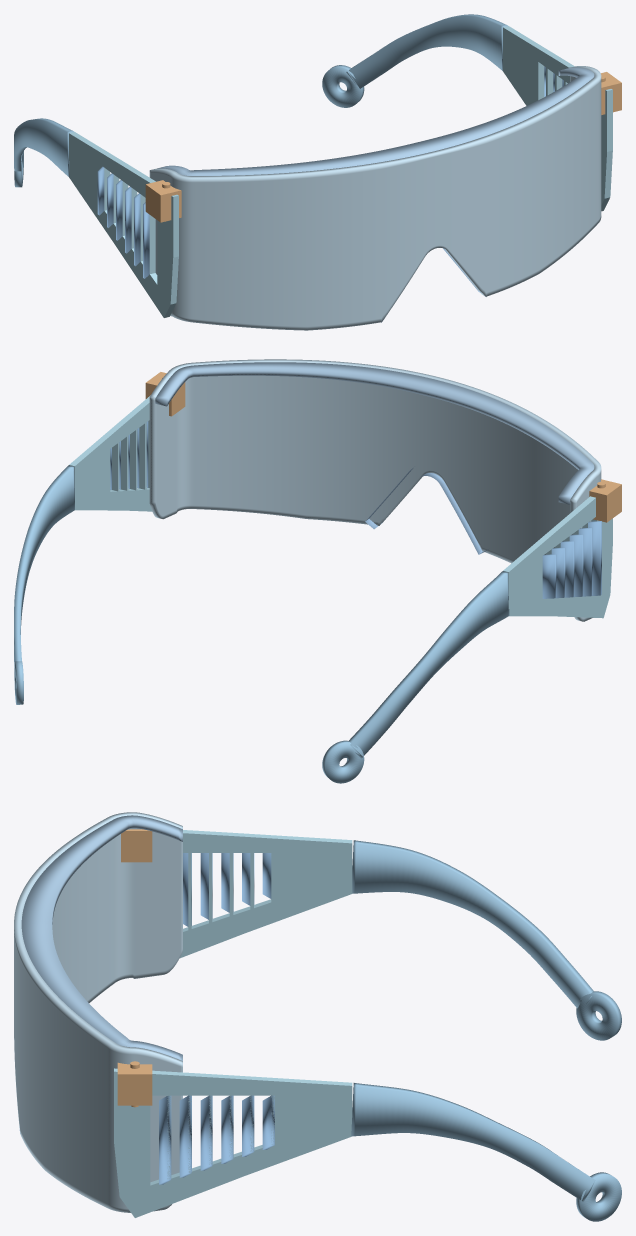
Rendered from occhiali.glb.
3 renders of one model, top to bottom at view 1: azimuth 30°, elevation 25°; view 2: azimuth 150°, elevation 25°; view 3: azimuth 270°, elevation 25°, orthographic. The views are drawn at different scales.
Visible parts, largest first — view 1: Lente, Riparo_laterale_SX, Bordino_superiore, Asta_DX, Riparo_laterale_DX, Asta_SX, Terminale_asta_DX, Cerniera_SX, Cerniera_DX, Aletta_SX_2, Aletta_SX_1, Aletta_SX_3; view 2: Lente, Bordino_superiore, Riparo_laterale_DX, Riparo_laterale_SX, Asta_SX, Asta_DX, Terminale_asta_SX, Cerniera_SX, Bordo_incavo_nasale, Aletta_SX_2, Aletta_SX_1, Aletta_SX_6 (+3 smaller); view 3: Lente, Riparo_laterale_DX, Riparo_laterale_SX, Asta_SX, Asta_DX, Bordino_superiore, Terminale_asta_SX, Terminale_asta_DX, Cerniera_DX, Aletta_DX_1, Cerniera_SX, Aletta_DX_2 (+6 smaller).
Part boxes in pixels (box(x1,y1,x2,y2)): Lente: box(149, 66, 601, 330); Riparo_laterale_SX: box(69, 132, 178, 317); Bordino_superiore: box(157, 67, 594, 175); Asta_DX: box(346, 14, 507, 88); Riparo_laterale_DX: box(503, 26, 612, 211); Asta_SX: box(14, 118, 74, 177); Terminale_asta_DX: box(322, 65, 364, 107); Cerniera_SX: box(145, 180, 181, 222); Cerniera_DX: box(601, 72, 621, 114); Aletta_SX_2: box(134, 193, 140, 266); Aletta_SX_1: box(143, 202, 149, 278); Aletta_SX_3: box(125, 186, 131, 253); Lente: box(149, 359, 601, 621); Bordino_superiore: box(155, 362, 594, 504); Riparo_laterale_DX: box(69, 395, 152, 511); Riparo_laterale_SX: box(503, 496, 612, 618); Asta_SX: box(349, 571, 509, 758); Asta_DX: box(14, 465, 74, 671); Terminale_asta_SX: box(322, 740, 364, 783); Cerniera_SX: box(589, 479, 621, 522); Bordo_incavo_nasale: box(365, 467, 488, 554); Aletta_SX_2: box(578, 527, 592, 596); Aletta_SX_1: box(588, 521, 601, 595); Aletta_SX_6: box(542, 554, 556, 598); Lente: box(14, 812, 182, 1212); Riparo_laterale_DX: box(114, 1068, 352, 1217); Riparo_laterale_SX: box(179, 830, 352, 958); Asta_SX: box(352, 840, 593, 1008); Asta_DX: box(351, 1083, 595, 1201); Bordino_superiore: box(21, 815, 182, 1060); Terminale_asta_SX: box(576, 991, 621, 1040); Terminale_asta_DX: box(576, 1172, 621, 1221); Cerniera_DX: box(117, 1062, 152, 1105); Aletta_DX_1: box(159, 1095, 171, 1184); Cerniera_SX: box(121, 829, 152, 862); Aletta_DX_2: box(179, 1095, 191, 1177).
Size of the model in its own units: 0.1588 by 0.0588 by 0.1583.
